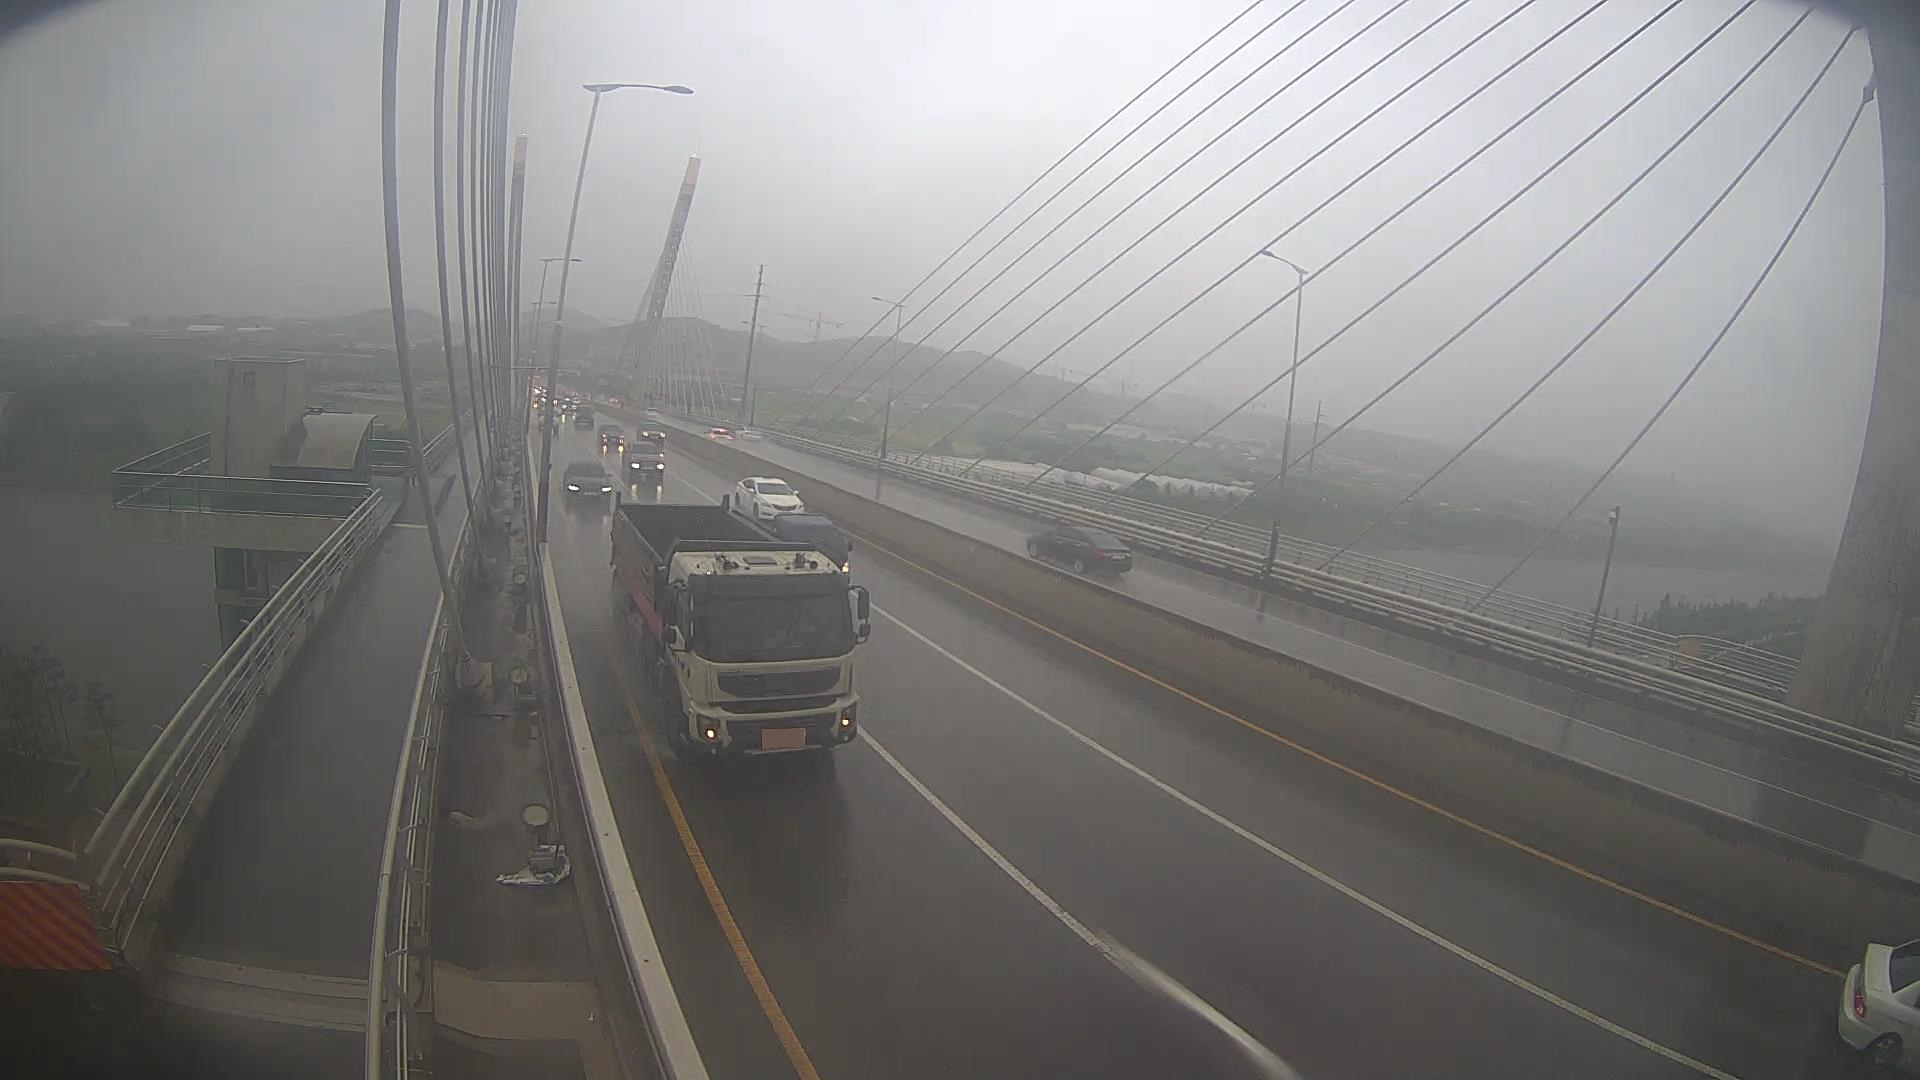정상차량: (611, 492, 872, 761)
